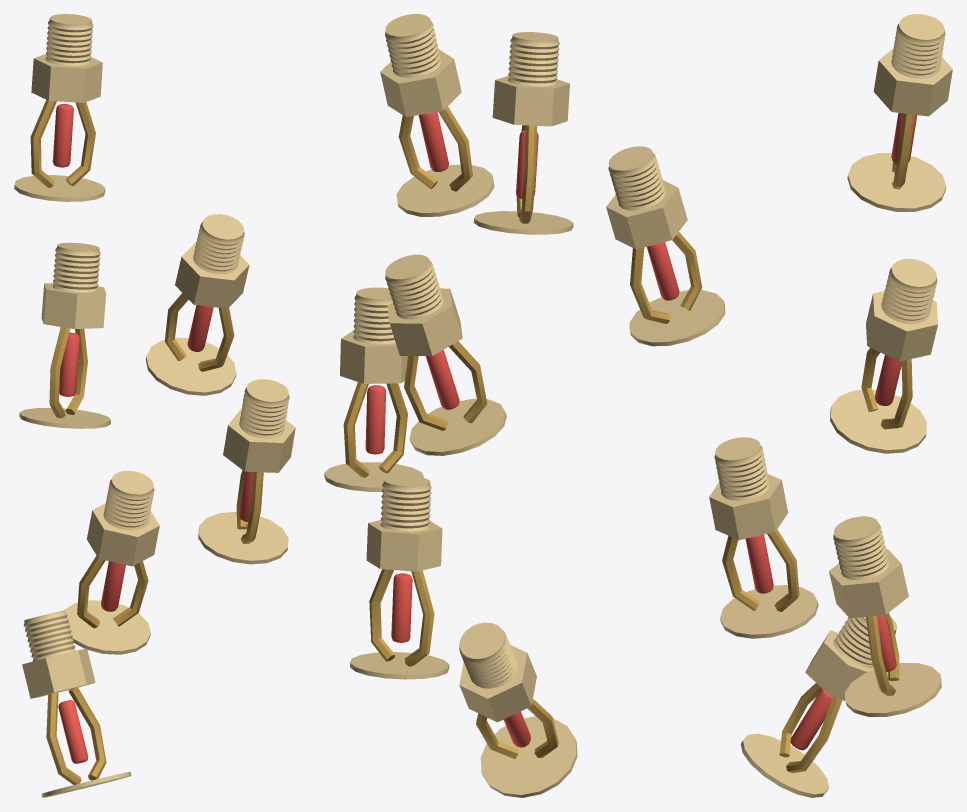
The model's file is HID-INC-008_anim.glb.
The picture shows the model from 3 angles, left to right: view 1: azimuth 30°, elevation 25°; view 2: azimuth 150°, elevation 25°; view 3: azimuth 270°, elevation 25°; orthographic projection. The views are drawn at different scales.
Parts seen in each view (by area): view 1: HID-INC-008_anim4, HID-INC-008_anim1, HID-INC-008_anim2, HID-INC-008_anim5, HID-INC-008_anim3, HID-INC-008_anim0; view 2: HID-INC-008_anim0, HID-INC-008_anim5, HID-INC-008_anim3, HID-INC-008_anim1, HID-INC-008_anim2, HID-INC-008_anim4; view 3: HID-INC-008_anim2, HID-INC-008_anim4, HID-INC-008_anim3, HID-INC-008_anim5, HID-INC-008_anim1, HID-INC-008_anim0.
Part boxes in pixels (<box>): HID-INC-008_anim4: <box>145,214,249,395</box>; HID-INC-008_anim1: <box>64,470,159,654</box>; HID-INC-008_anim2: <box>198,379,295,564</box>; HID-INC-008_anim5: <box>14,14,105,201</box>; HID-INC-008_anim3: <box>19,242,110,428</box>; HID-INC-008_anim0: <box>22,610,131,797</box>; HID-INC-008_anim0: <box>459,622,577,797</box>; HID-INC-008_anim5: <box>380,14,494,216</box>; HID-INC-008_anim3: <box>385,254,506,455</box>; HID-INC-008_anim1: <box>350,475,449,679</box>; HID-INC-008_anim2: <box>324,287,423,491</box>; HID-INC-008_anim4: <box>473,32,573,234</box>; HID-INC-008_anim2: <box>709,437,818,638</box>; HID-INC-008_anim4: <box>606,146,725,346</box>; HID-INC-008_anim3: <box>830,258,937,453</box>; HID-INC-008_anim5: <box>847,14,952,211</box>; HID-INC-008_anim1: <box>829,516,941,716</box>; HID-INC-008_anim0: <box>740,616,897,797</box>.
Size of the model in its own units: 0.0748 by 0.2288 by 0.0908.
3 materials, 1 textured.
